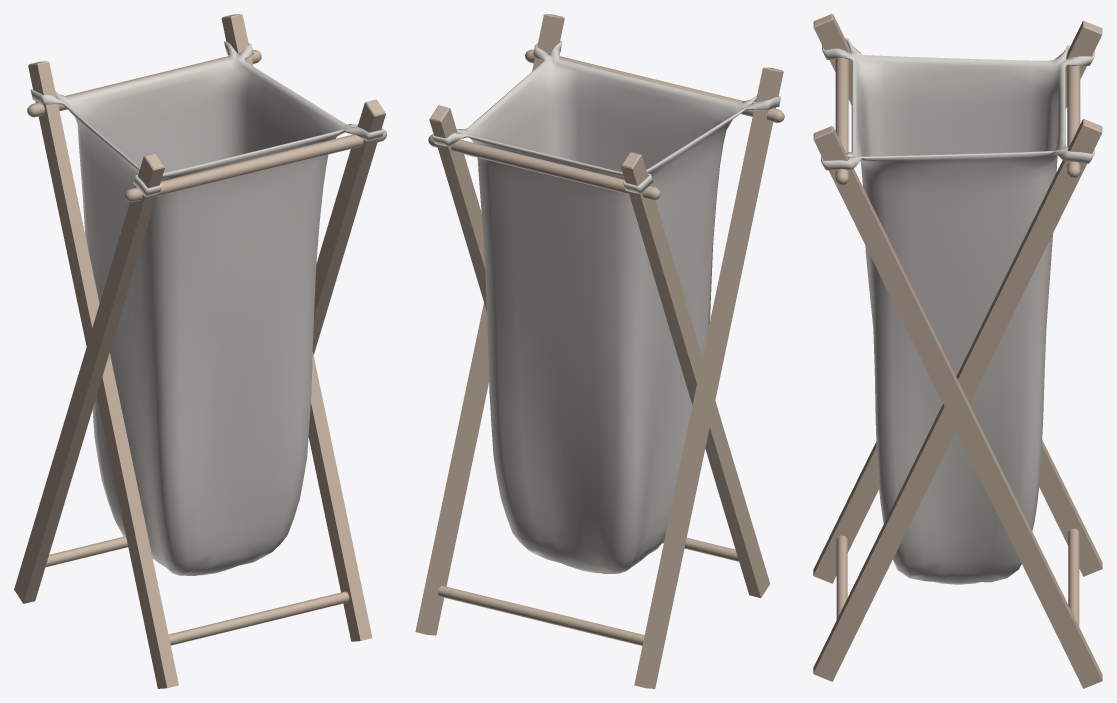
3 renders of one model, left to right at view 1: azimuth 30°, elevation 25°; view 2: azimuth 150°, elevation 25°; view 3: azimuth 270°, elevation 25°, orthographic. The views are drawn at different scales.
Visible parts, largest first — view 1: Hamper.Cloth, Hamper.Outside.002, Hamper.Outside.001; view 2: Hamper.Cloth, Hamper.Outside.001, Hamper.Outside.002; view 3: Hamper.Cloth, Hamper.Outside.001, Hamper.Outside.002.
Boxes of the visible parts, x1,y1,x2,y2 form: Hamper.Cloth: (30,41,384,575); Hamper.Outside.002: (27,14,372,688); Hamper.Outside.001: (14,99,386,603); Hamper.Cloth: (432,41,780,573); Hamper.Outside.001: (415,14,784,688); Hamper.Outside.002: (428,105,770,597); Hamper.Cloth: (821,38,1094,584); Hamper.Outside.001: (813,14,1102,688); Hamper.Outside.002: (813,21,1102,681).
Size of the model in its own units: 1.65 by 3.25 by 1.53.
